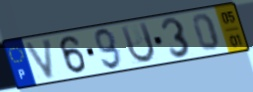0: (192, 12, 222, 54)
3: (161, 16, 192, 60)
6: (58, 35, 89, 76)
9: (94, 27, 124, 71)
U: (119, 20, 158, 65)
V: (23, 36, 55, 81)
